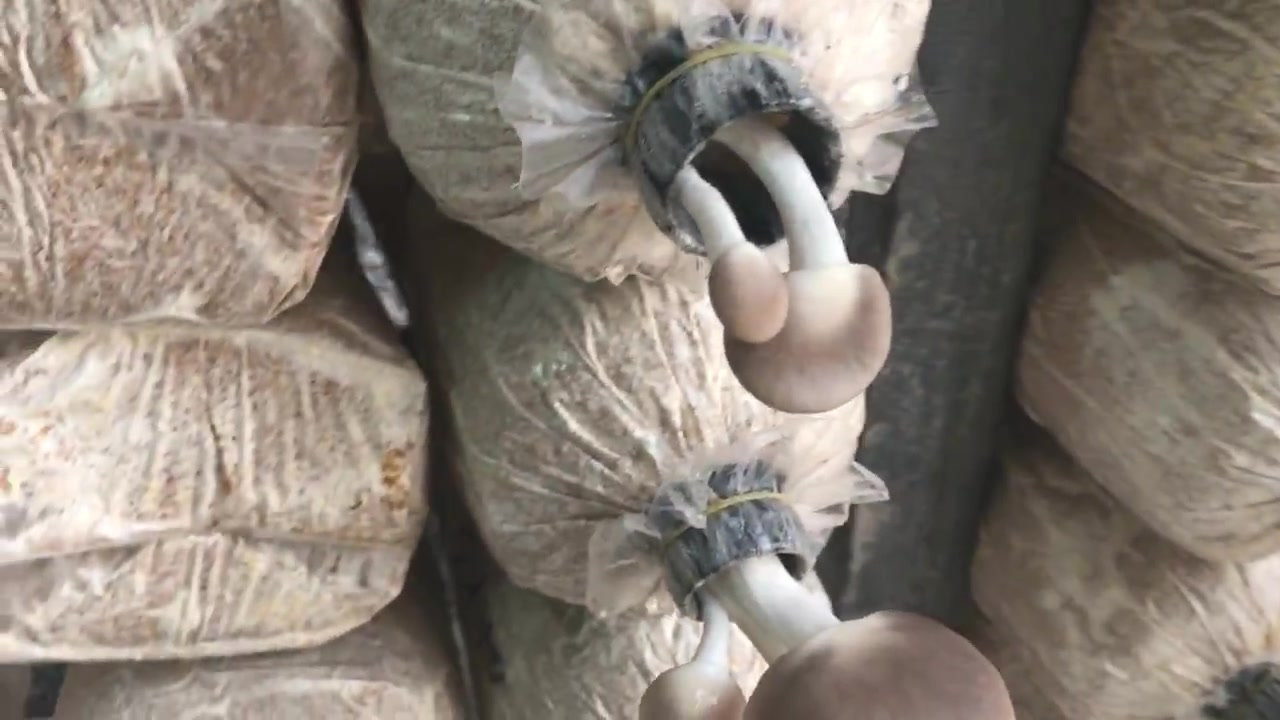nam: (630, 51, 894, 413), (641, 495, 1016, 719)
